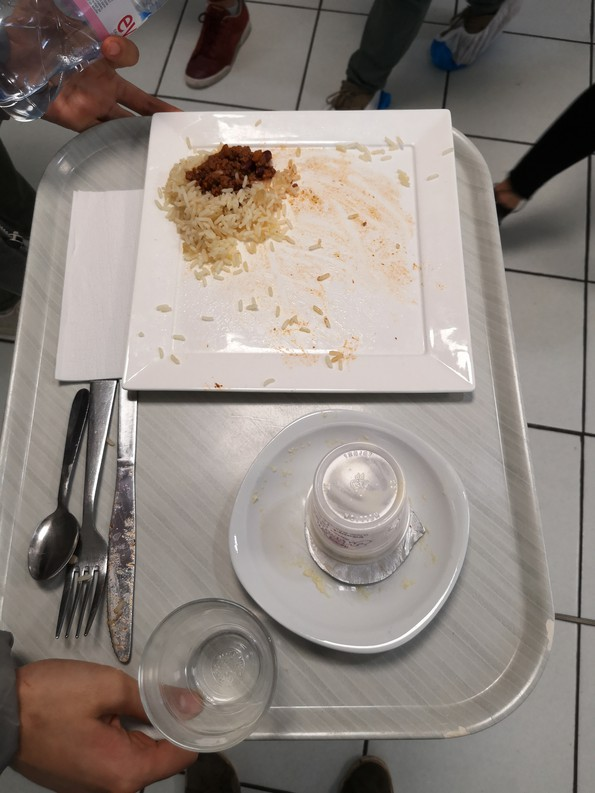cup: (127, 599, 285, 762)
cutlery: (45, 340, 137, 667)
orga: (181, 145, 298, 264)
trash: (52, 175, 122, 384)
